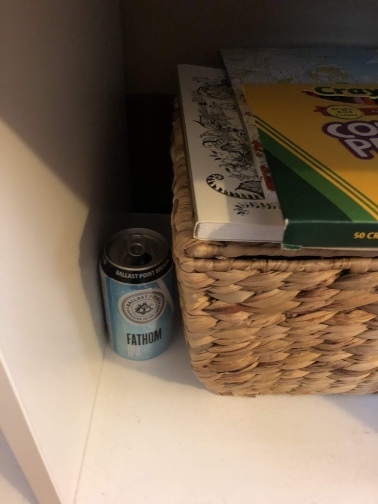can: (96, 224, 179, 363)
